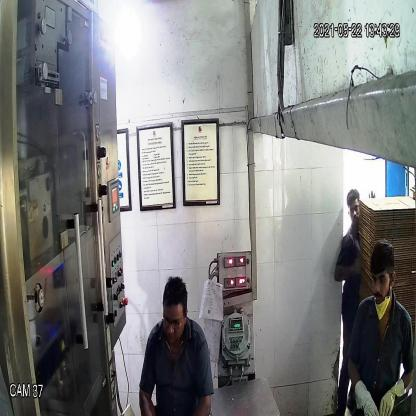goggles: (159, 311, 187, 333)
no_goggles: (370, 270, 392, 288)
